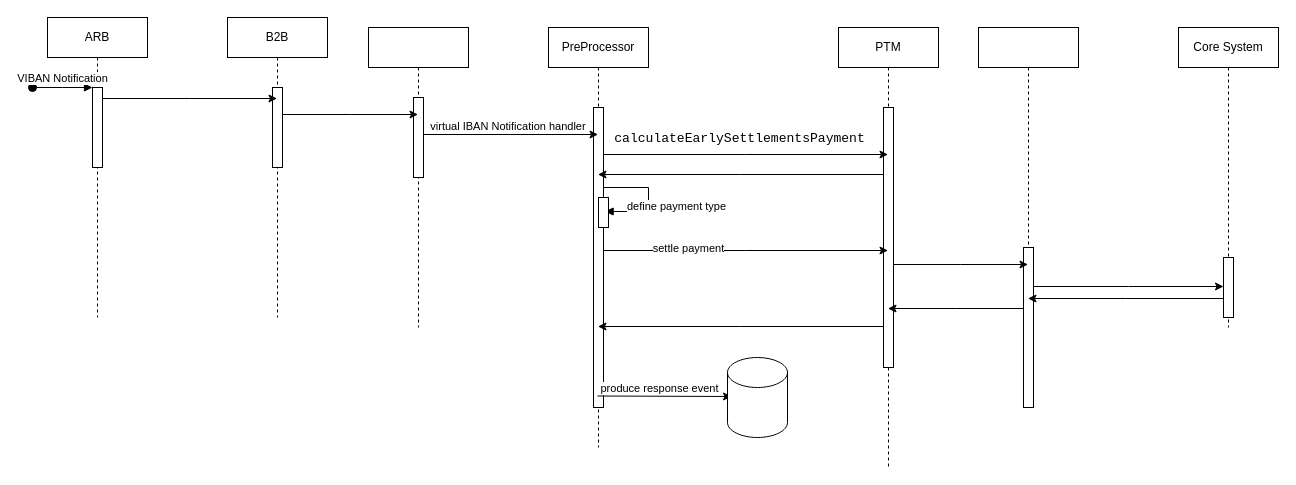
Some shapes in this 1296 by 485 pixel diagram are drawn without their labels. Each missing label, with the box of its shape:
Dispature: (978, 26, 1078, 408)
VIBAN: (368, 26, 468, 328)
